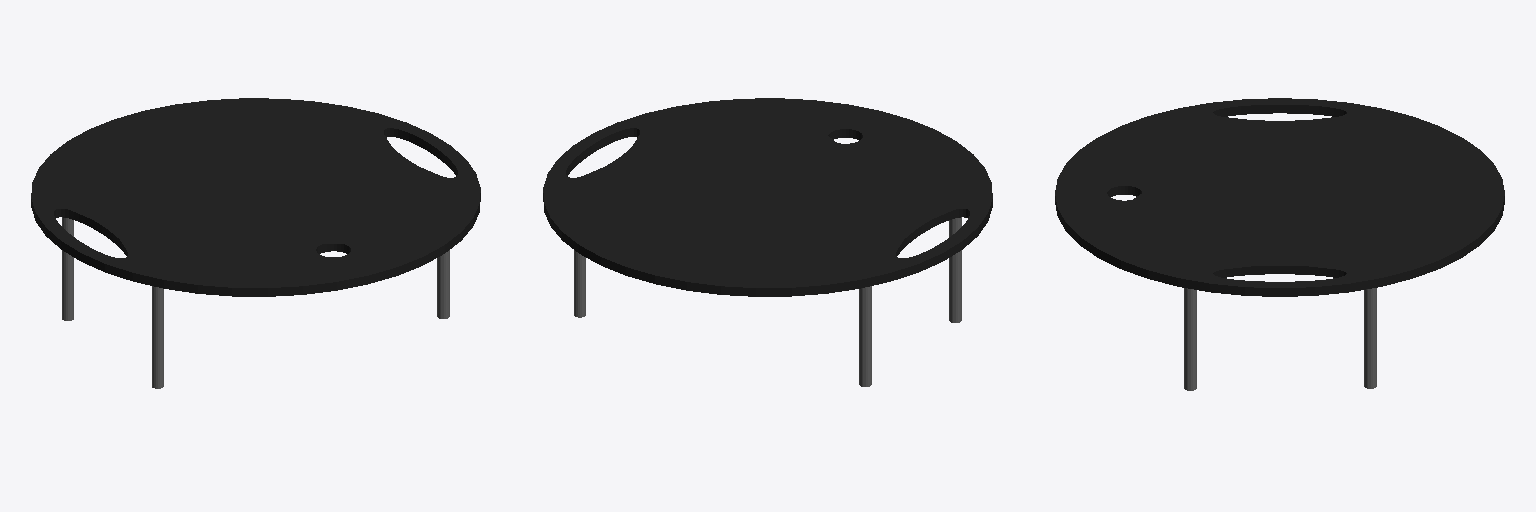
The model's file is UpperDeck.obj.
3 renders of one model, left to right at view 1: azimuth 30°, elevation 25°; view 2: azimuth 150°, elevation 25°; view 3: azimuth 270°, elevation 25°, orthographic.
Visible parts, largest first — view 1: UpperDeck; view 2: UpperDeck; view 3: UpperDeck.
Part boxes in pixels (left/top/right/bottom): UpperDeck: left=31, top=98, right=480, bottom=388; UpperDeck: left=543, top=98, right=992, bottom=386; UpperDeck: left=1055, top=98, right=1504, bottom=390.
Size of the model in its own units: 17.76 by 5.47 by 17.76.